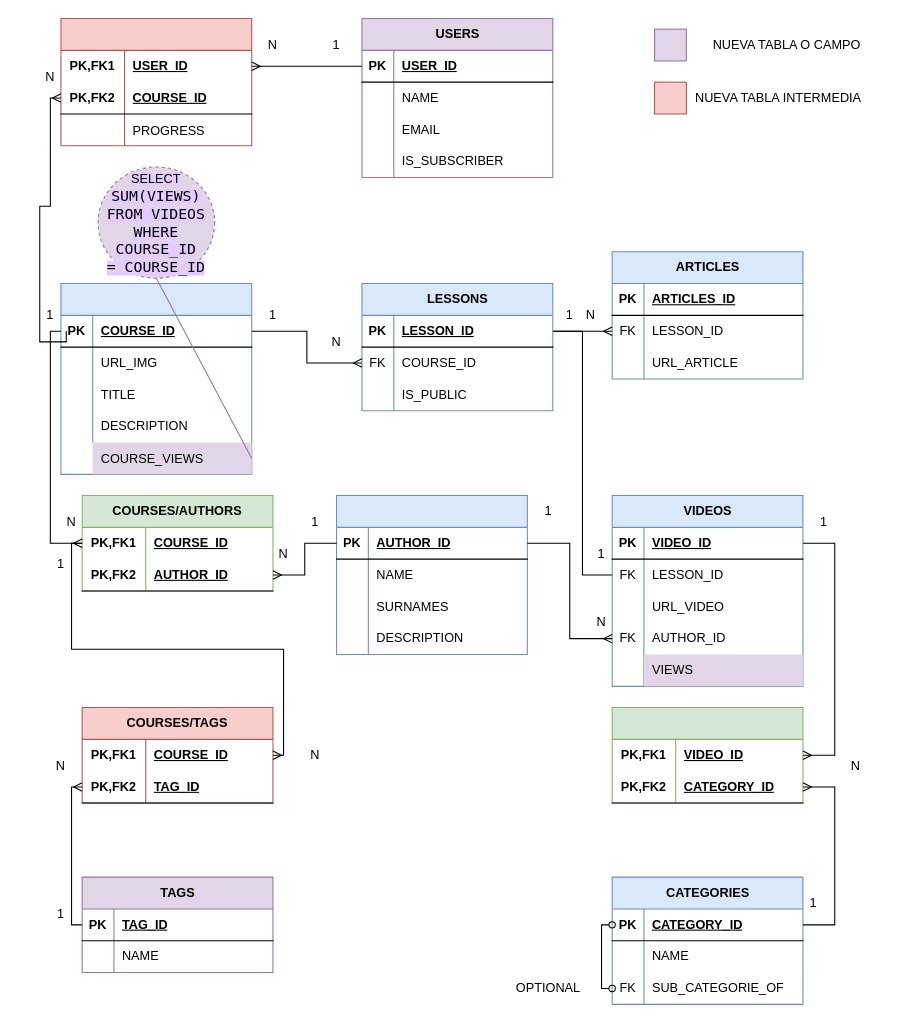
Some shapes in this 913 by 1023 pixel diagram are drawn without their labels. Here are the shapes that lost their labels. From the top down, the box of each, then its label:
(60, 17, 252, 146): USERS/COURSES
(60, 282, 252, 474): COURSES
(335, 494, 527, 655): AUTHORS
(611, 706, 803, 803): VIDEOS/CATEGORIES
